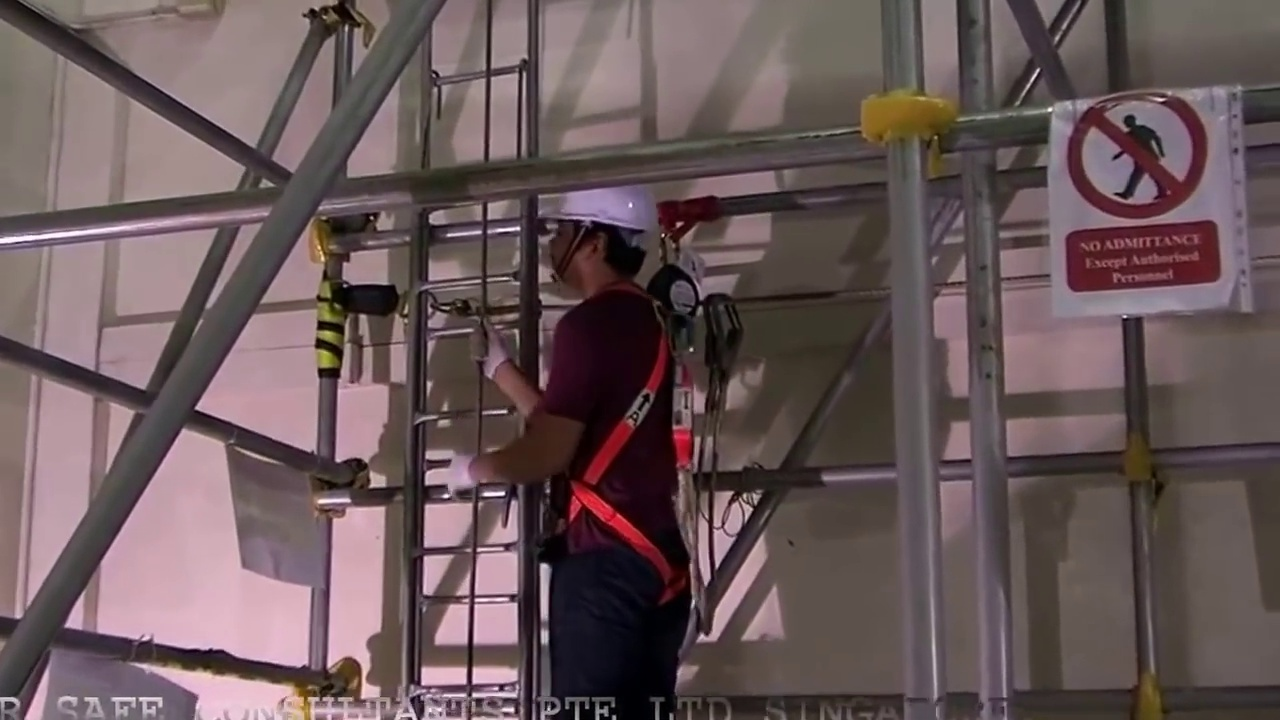harness: (582, 297, 692, 610)
helmet: (544, 192, 660, 225)
hook: (702, 293, 743, 393)
leash: (692, 403, 727, 621)
